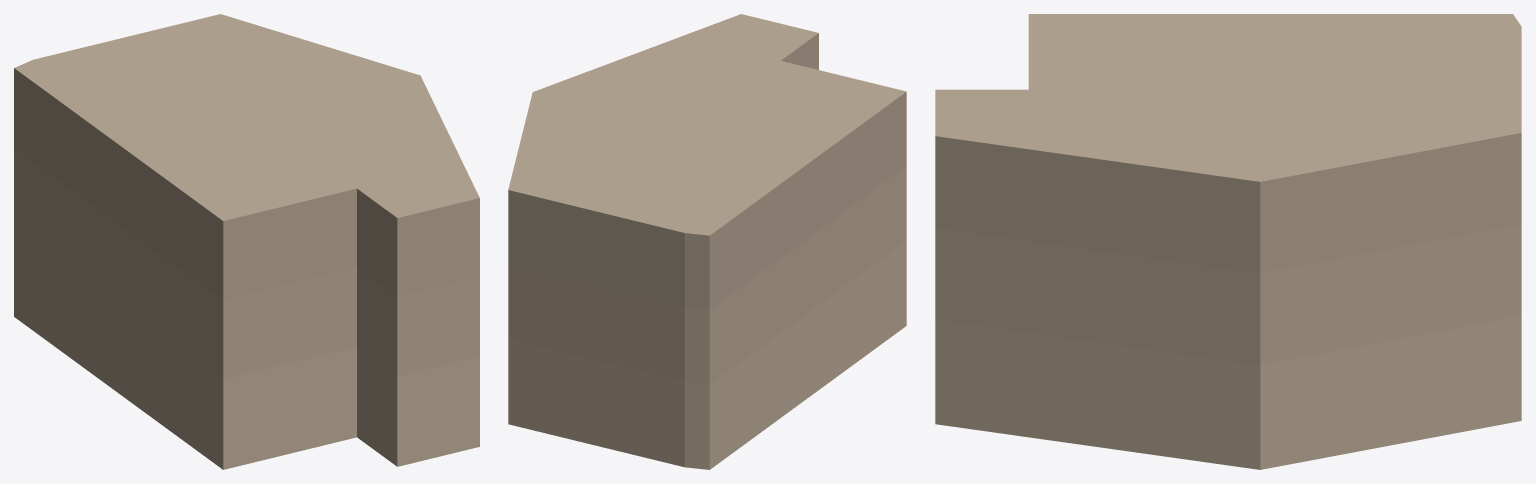
Rendered from massing.glb.
The picture shows the model from 3 angles, left to right: view 1: azimuth 30°, elevation 25°; view 2: azimuth 150°, elevation 25°; view 3: azimuth 270°, elevation 25°; orthographic projection. The views are drawn at different scales.
Visible parts, largest first — view 1: main/floor3/0, main/floor1/0, main/floor2/0; view 2: main/floor3/0, main/floor1/0, main/floor2/0; view 3: main/floor3/0, main/floor1/0, main/floor2/0.
Part boxes in pixels (bbox=[...]): main/floor3/0: bbox=[14, 14, 479, 300]; main/floor1/0: bbox=[14, 226, 479, 469]; main/floor2/0: bbox=[14, 147, 479, 379]; main/floor3/0: bbox=[508, 14, 906, 310]; main/floor1/0: bbox=[508, 241, 906, 469]; main/floor2/0: bbox=[508, 166, 906, 384]; main/floor3/0: bbox=[935, 14, 1521, 273]; main/floor1/0: bbox=[935, 316, 1521, 469]; main/floor2/0: bbox=[935, 224, 1521, 365].
Size of the model in its own units: 11 by 8.8 by 16.24.
